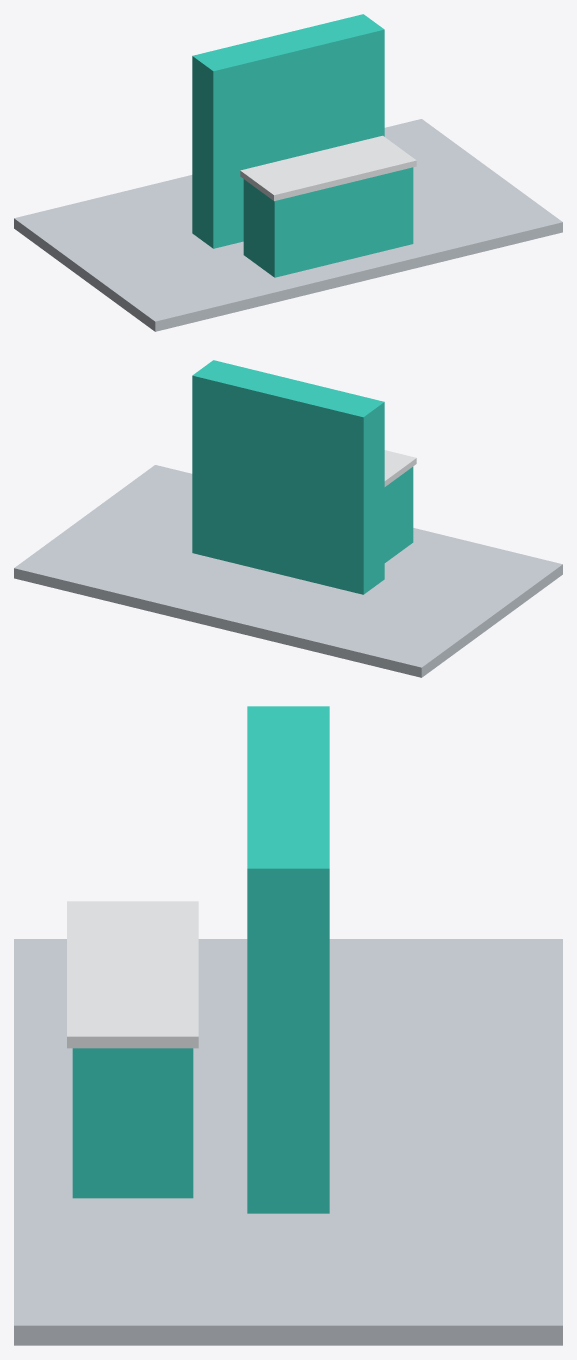
3 renders of one model, top to bottom at view 1: azimuth 30°, elevation 25°; view 2: azimuth 150°, elevation 25°; view 3: azimuth 270°, elevation 25°, orthographic. The views are drawn at different scales.
Parts seen in each view (by area): view 1: Exhibition Booth Concept; view 2: Exhibition Booth Concept; view 3: Exhibition Booth Concept.
Part boxes in pixels (x1=…): Exhibition Booth Concept: x1=14, y1=14, x2=562, y2=331; Exhibition Booth Concept: x1=14, y1=360, x2=562, y2=677; Exhibition Booth Concept: x1=14, y1=706, x2=562, y2=1345.
Bounding box in the file's own units: 5 × 2.2 × 3.
